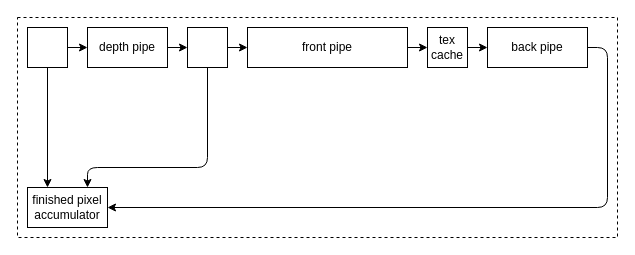
The diagram is 635 pixels wide and 255 high, and some of its shapes have lost their labels. The centre of each missing label's shape, as x and y in pixels:
depth accept/ reject: the point at 207,47
input gen: the point at 47,47
